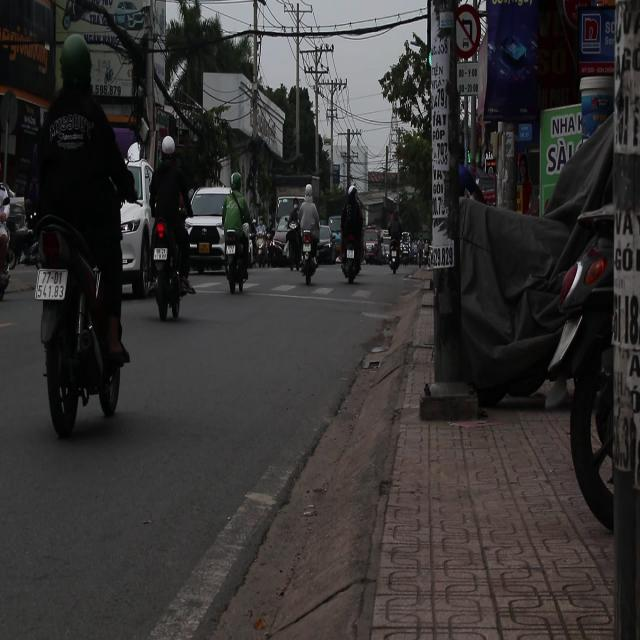car: (121, 158, 158, 300), (186, 187, 243, 277), (315, 218, 337, 264), (363, 227, 382, 258), (316, 223, 332, 253)
motorbike: (30, 197, 124, 435), (151, 209, 187, 319), (223, 215, 250, 309), (334, 211, 366, 285), (4, 197, 33, 268), (299, 233, 320, 287), (387, 238, 403, 272)
